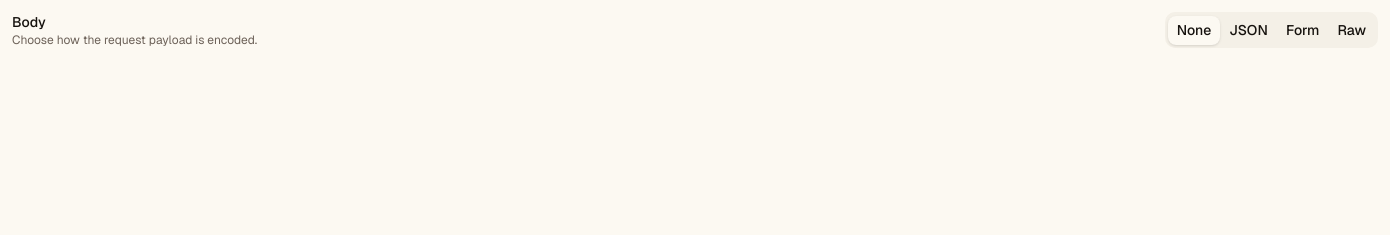
RequestBody › shows the body-not-sent note on a disallowed method
Click the tab "JSON" at [1249, 30], box top-left (1220, 16), bottom-right (1277, 44)
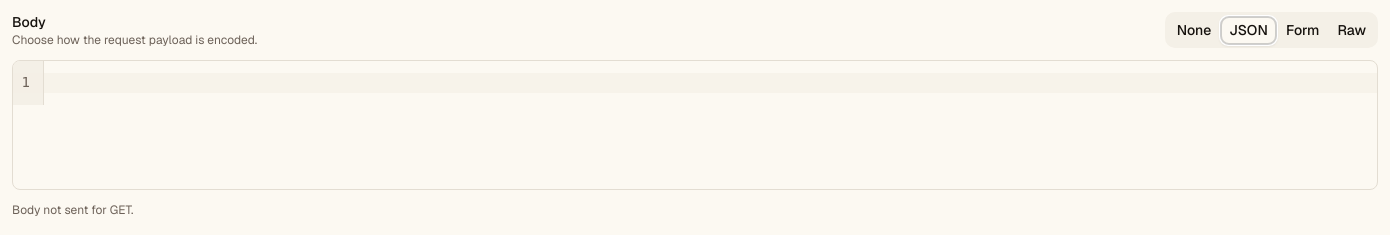
Result: the text "Body not sent for GET." is shown at top-left (12, 202), bottom-right (133, 218)
